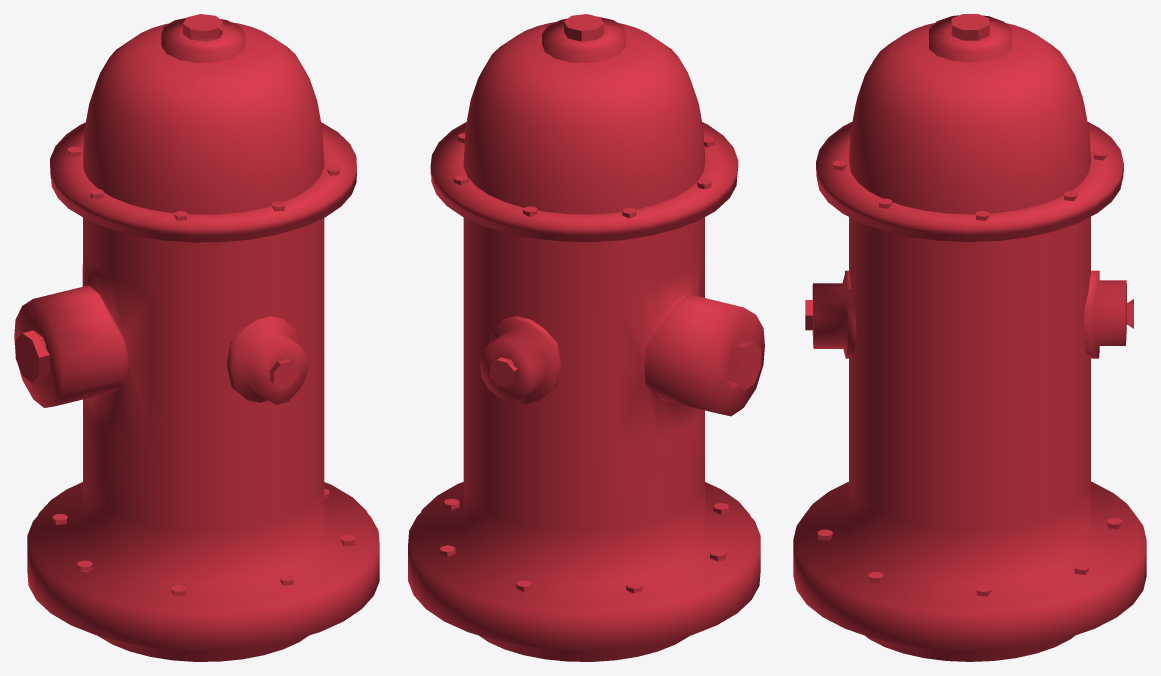
The model's file is Fire Hydrant.fbx.
3 renders of one model, left to right at view 1: azimuth 30°, elevation 25°; view 2: azimuth 150°, elevation 25°; view 3: azimuth 270°, elevation 25°, orthographic.
Visible parts, largest first — view 1: Fire Hydrant; view 2: Fire Hydrant; view 3: Fire Hydrant.
Part boxes in pixels (x1,y1,x2,y2): Fire Hydrant: [14, 14, 379, 661]; Fire Hydrant: [408, 14, 764, 661]; Fire Hydrant: [793, 14, 1146, 661].
Size of the model in its own units: 309 by 292 by 537.
